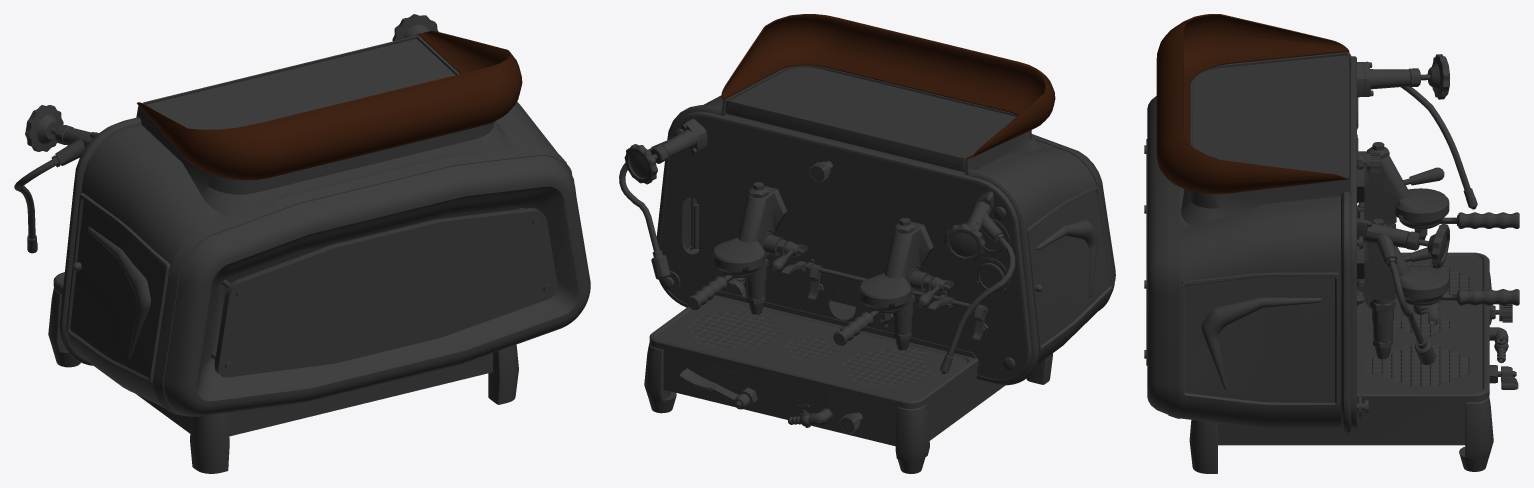
File: VP_Bakery_CoffeeMachine.FBX
3 views of the same model, side by side, from view 1: azimuth 30°, elevation 25°; view 2: azimuth 150°, elevation 25°; view 3: azimuth 270°, elevation 25° (orthographic). The views are drawn at different scales.
Parts seen in each view (by area): view 1: VP_Bakery_CoffeeMachine; view 2: VP_Bakery_CoffeeMachine; view 3: VP_Bakery_CoffeeMachine.
Boxes of the visible parts, x1,y1,x2,y2 form: VP_Bakery_CoffeeMachine: (14,14,590,473); VP_Bakery_CoffeeMachine: (619,14,1115,473); VP_Bakery_CoffeeMachine: (1144,14,1519,473).
Size of what is drawn, in the model's own units: 75.42 by 57.33 by 54.21.
